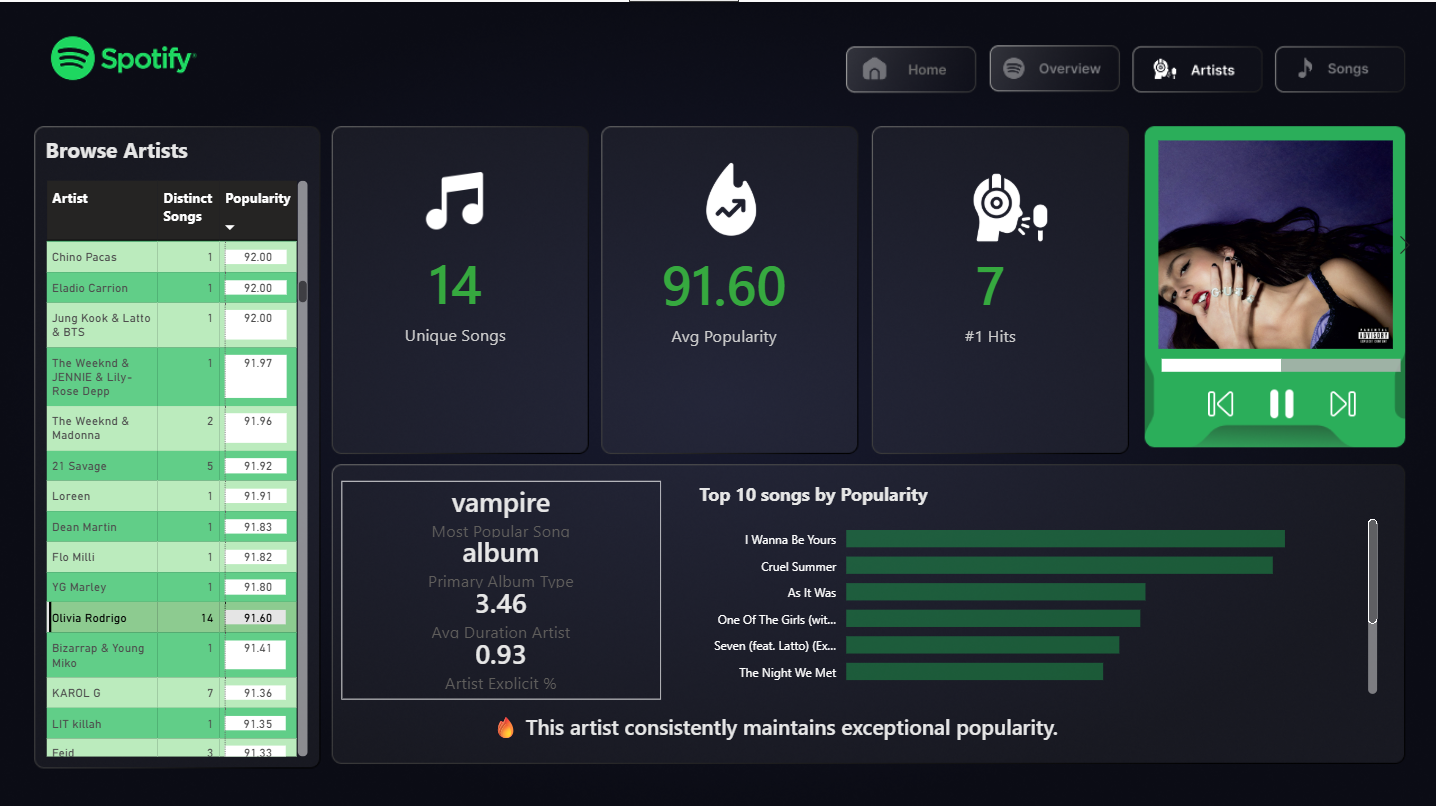

The dashboard page shown, as its layout file describes it:
{"tool":"powerbi","page":{"name":"Artist","canvas":[1280,720],"ordinal":2},"visuals":[{"type":"actionButton","box":[747.5,40,116.7,43.3],"z":0},{"type":"actionButton","box":[881.7,40,116.7,43.3],"z":1000},{"type":"actionButton","box":[1005.8,40,116.7,43.3],"z":2000},{"type":"actionButton","box":[1134.1,40,116.7,43.3],"z":3000},{"type":"tableEx","title":"Browse Artists","fields":{"Values":["Top-50-World.artist","_Measures.Distinct Songs","_Measures.Avg Popularity per Artist"]},"box":[35.6,118.9,243.3,557.8],"z":4000},{"type":"cardVisual","fields":{"Data":["_Measures.Distinct Songs"]},"box":[300.1,122.4,210,278.3],"z":5000},{"type":"image","box":[370,151.4,70,51],"z":6000},{"type":"cardVisual","fields":{"Data":["_Measures.Avg Popularity per Artist"]},"box":[540.1,123.4,210,278.3],"z":7000},{"type":"image","box":[628.6,137.1,65,78],"z":8000},{"type":"cardVisual","fields":{"Data":["_Measures.Position1 Hits per Artist"]},"box":[777.4,123.4,210,278.3],"z":9000},{"type":"image","box":[864.3,150,71.4,65.7],"z":10000},{"type":"advancedSlicerVisual","title":"Song and Artist","fields":{"Values":["Top-50-World.song"]},"box":[1005.7,117.1,261.4,198.6],"z":11000},{"type":"hundredPercentStackedBarChart","fields":{"Y":["_Measures.Avg Popularity","Avg(Top-50-World.popularity)"]},"box":[1030.1,289.7,222.9,61.4],"z":12000},{"type":"image","box":[1074.6,345.3,25.7,25.7],"z":13000},{"type":"image","box":[1183,345.4,25.7,25.7],"z":14000},{"type":"image","box":[1128.7,345.4,25.7,25.7],"z":15000},{"type":"shape","box":[303.8,426.2,285,195],"z":16000},{"type":"cardVisual","fields":{"Data":["_Measures.Most Popular Song","_Measures.Primary Album Type","_Measures.Avg Duration Artist","_Measures.Artist Explicit %"]},"box":[310.9,421.8,271.2,203.8],"z":17000},{"type":"clusteredBarChart","title":"Top 10 songs by Popularity","fields":{"Y":["Sum(Top-50-World.popularity)"],"Category":["Top-50-World.song"]},"box":[617.5,426.2,613.8,195],"z":18000},{"type":"cardVisual","fields":{"Data":["Top-50-World.Artist Insight"]},"box":[408.6,610,784.3,68.6],"z":19000}]}

Visuals, with their boxes in screenshot pixels (x1, y1, x2, y2), scaled from the page's 1280x720 canvas onto the 1436x806 screenshot:
actionButton: (839,45,970,93)
actionButton: (989,45,1120,93)
actionButton: (1128,45,1259,93)
actionButton: (1272,45,1403,93)
"Browse Artists" tableEx: (40,133,313,758)
cardVisual - _Measures.Distinct Songs: (337,137,572,449)
image: (415,169,494,227)
cardVisual - _Measures.Avg Popularity per Artist: (606,138,842,450)
image: (705,153,778,241)
cardVisual - _Measures.Position1 Hits per Artist: (872,138,1108,450)
image: (970,168,1050,241)
"Song and Artist" advancedSlicerVisual: (1128,131,1422,353)
hundredPercentStackedBarChart - _Measures.Avg Popularity x Avg(Top-50-World.popularity): (1156,324,1406,393)
image: (1206,387,1234,415)
image: (1327,387,1356,415)
image: (1266,387,1295,415)
shape: (341,477,661,695)
cardVisual - _Measures.Most Popular Song x _Measures.Primary Album Type: (349,472,653,700)
"Top 10 songs by Popularity" clusteredBarChart: (693,477,1381,695)
cardVisual - Top-50-World.Artist Insight: (458,683,1338,760)
